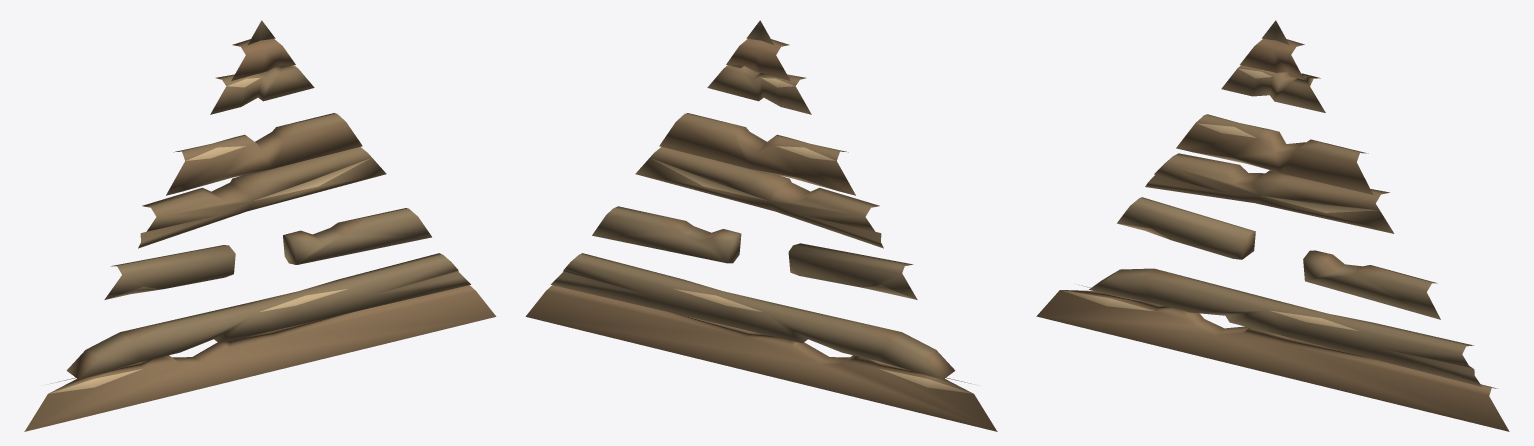
File: rpgpp_av_roof_end_01_6x5_wall_window_01c.gltf
The picture shows the model from 3 angles, left to right: view 1: azimuth 30°, elevation 25°; view 2: azimuth 150°, elevation 25°; view 3: azimuth 330°, elevation 25°; orthographic projection.
Parts seen in each view (by area): view 1: rpgpp_av_roof_end_01_6x5_wall_window_01c; view 2: rpgpp_av_roof_end_01_6x5_wall_window_01c; view 3: rpgpp_av_roof_end_01_6x5_wall_window_01c.
Boxes of the visible parts, bbox=[...] form: rpgpp_av_roof_end_01_6x5_wall_window_01c: bbox=[24, 20, 496, 431]; rpgpp_av_roof_end_01_6x5_wall_window_01c: bbox=[525, 20, 997, 431]; rpgpp_av_roof_end_01_6x5_wall_window_01c: bbox=[1036, 20, 1509, 431].
Bounding box in the file's own units: 0.068 × 0.0486 × 0.00374.
Materials: 1 (1 with a texture image).
